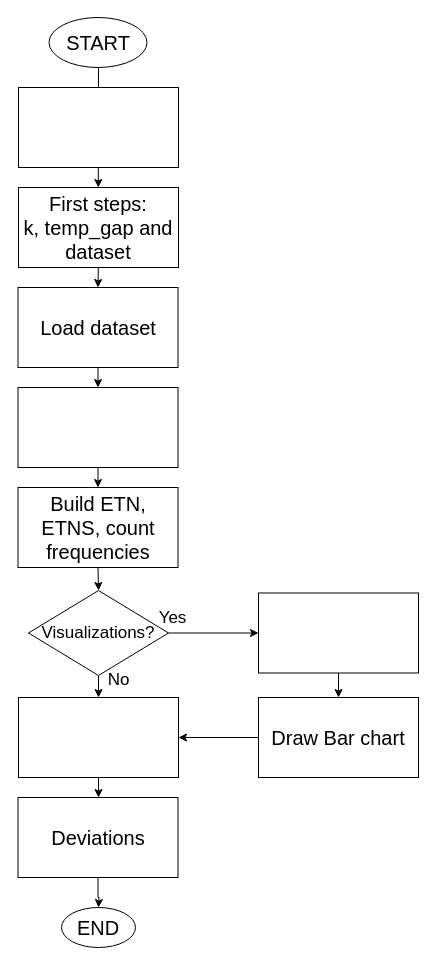
Image size: 436x965. Some labels were removed from this diagram. The shapes that lost their labels are listed below. From the top down, each one's centre as x and y in pixels, then its label:
At [98,127]: "Data preparation".
At [97,427]: "Build graphs".
At [338,632]: "Draw ETN graph".
At [98,737]: "Build null models, ETN and ETNS".
